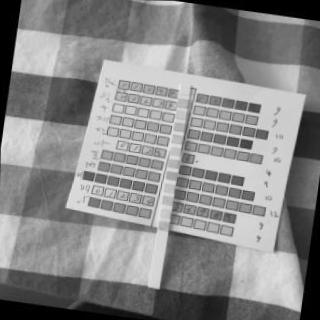mark: (159, 207, 170, 217), (172, 134, 183, 144), (176, 110, 187, 120), (166, 159, 178, 168), (163, 183, 173, 193), (169, 146, 179, 156), (157, 222, 169, 230), (165, 172, 177, 180), (173, 124, 185, 132), (177, 99, 189, 107), (178, 86, 190, 94), (162, 196, 172, 204)
